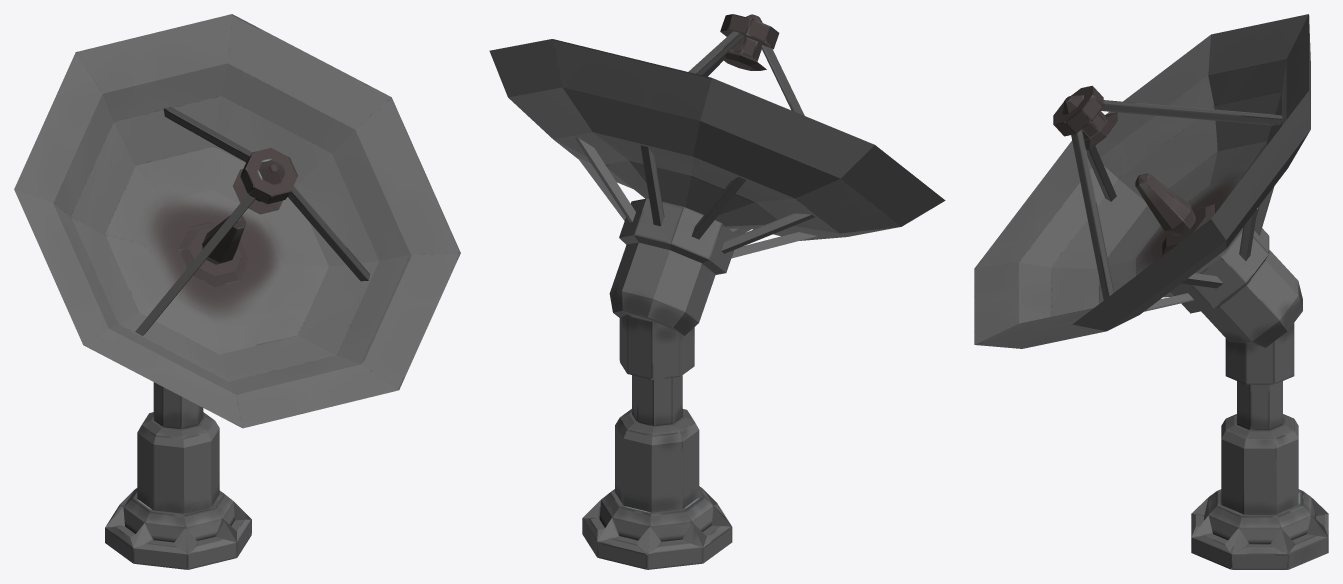
Rendered from satAnthene.fbx.
3 views of the same model, side by side, from view 1: azimuth 30°, elevation 25°; view 2: azimuth 150°, elevation 25°; view 3: azimuth 270°, elevation 25° (orthographic). The views are drawn at different scales.
Parts seen in each view (by area): view 1: cylinder_1, cylinder, cylinder_2, cuboid_9, cuboid_10, cuboid_8; view 2: cylinder_1, cylinder, cylinder_2, cuboid, cuboid_4, cuboid_2, cuboid_6, cuboid_9, cuboid_8, cuboid_5; view 3: cylinder_1, cylinder, cylinder_2, cuboid_8, cuboid_10, cuboid_9, cuboid_4.
Boxes of the visible parts, <box> form: cylinder_1: <box>14,14,460,428</box>; cylinder: <box>105,382,251,569</box>; cylinder_2: <box>233,148,297,214</box>; cuboid_9: <box>135,194,255,335</box>; cuboid_10: <box>287,186,369,281</box>; cuboid_8: <box>163,107,252,161</box>; cylinder_1: <box>489,39,945,335</box>; cylinder: <box>582,314,732,569</box>; cylinder_2: <box>720,14,779,70</box>; cuboid: <box>721,213,814,253</box>; cuboid_4: <box>575,137,635,222</box>; cuboid_2: <box>640,145,664,226</box>; cuboid_6: <box>691,177,745,239</box>; cuboid_9: <box>762,41,804,115</box>; cuboid_8: <box>688,31,746,75</box>; cuboid_5: <box>731,232,817,258</box>; cylinder_1: <box>974,14,1310,348</box>; cylinder: <box>1191,323,1328,569</box>; cylinder_2: <box>1053,85,1117,149</box>; cuboid_8: <box>1100,100,1282,126</box>; cuboid_10: <box>1071,129,1114,300</box>; cuboid_9: <box>1086,145,1116,201</box>; cuboid_4: <box>1239,208,1257,261</box>.
Bounding box in the file's own units: 638 × 787 × 517.
Materials: 1 (1 with a texture image).
